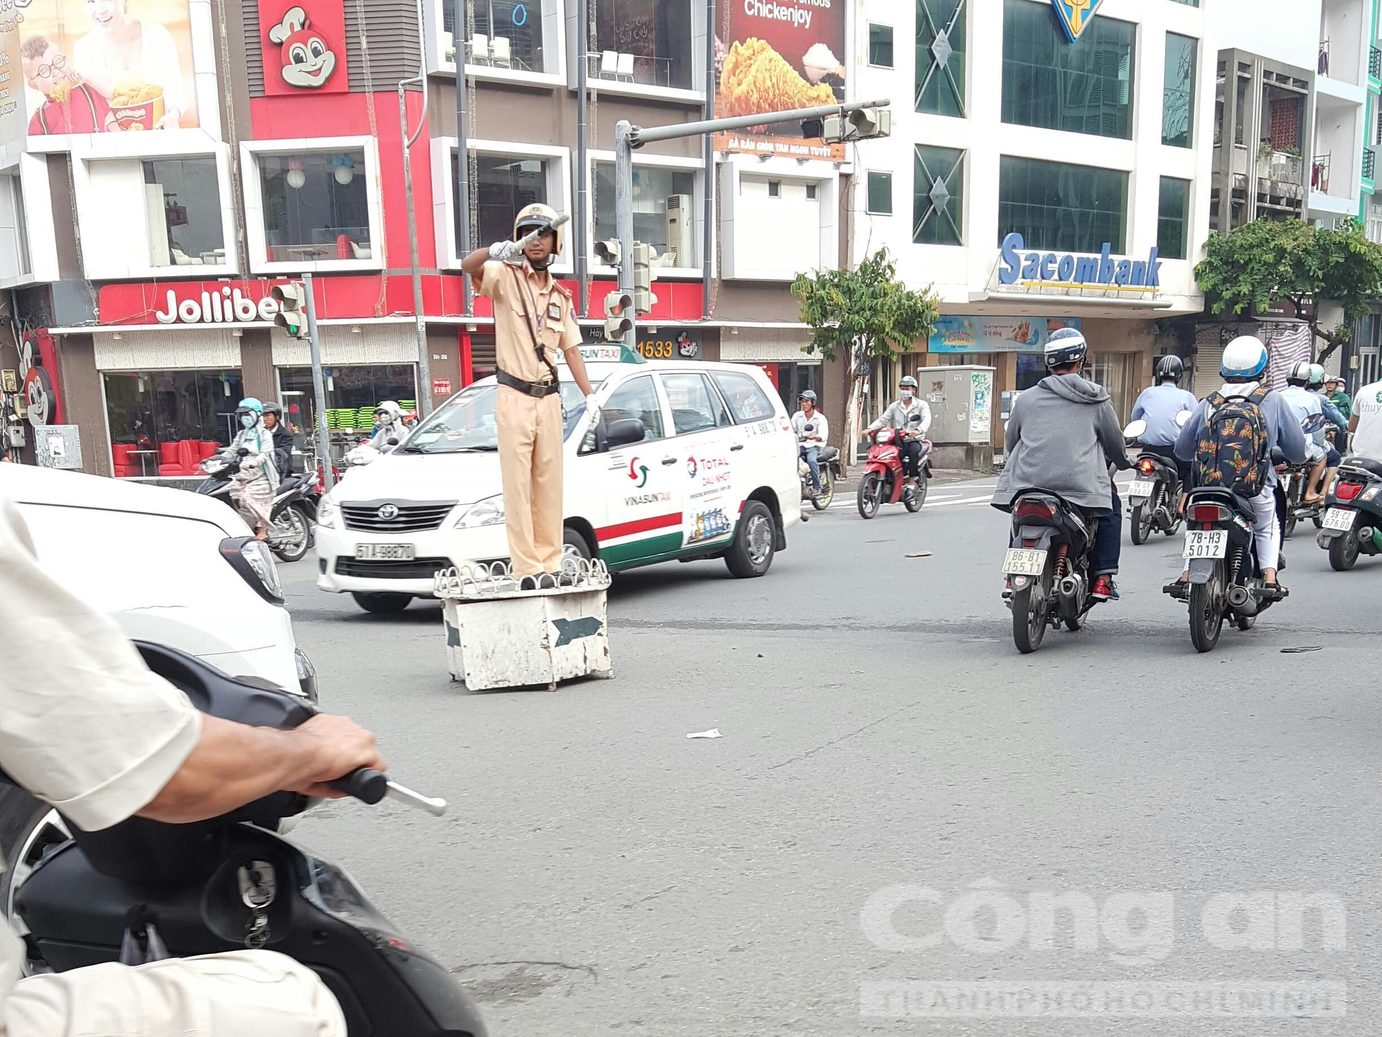police: (451, 202, 617, 601)
